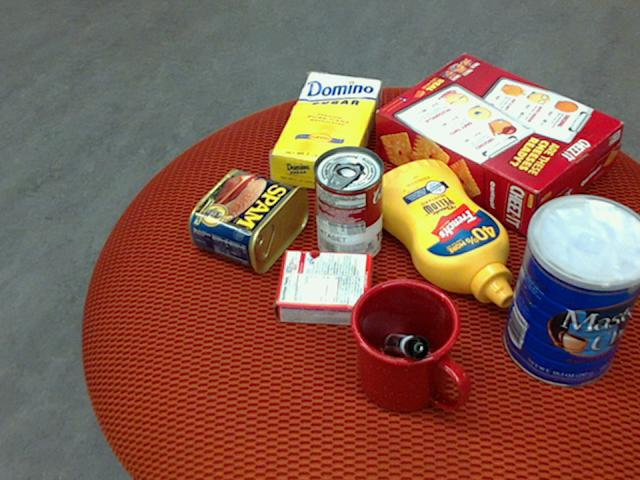cracker_box: (375, 52, 621, 235)
gelatin_box: (271, 249, 370, 329)
large_marker: (384, 333, 429, 359)
master_chef_can: (502, 195, 639, 387)
mug: (347, 279, 466, 413)
mustard_bottle: (366, 159, 513, 308)
potted_meat_can: (188, 167, 308, 273)
sugar_box: (269, 71, 381, 192)
tomato_soup_can: (312, 143, 383, 264)
tuna_fish_can: (545, 209, 638, 291)
